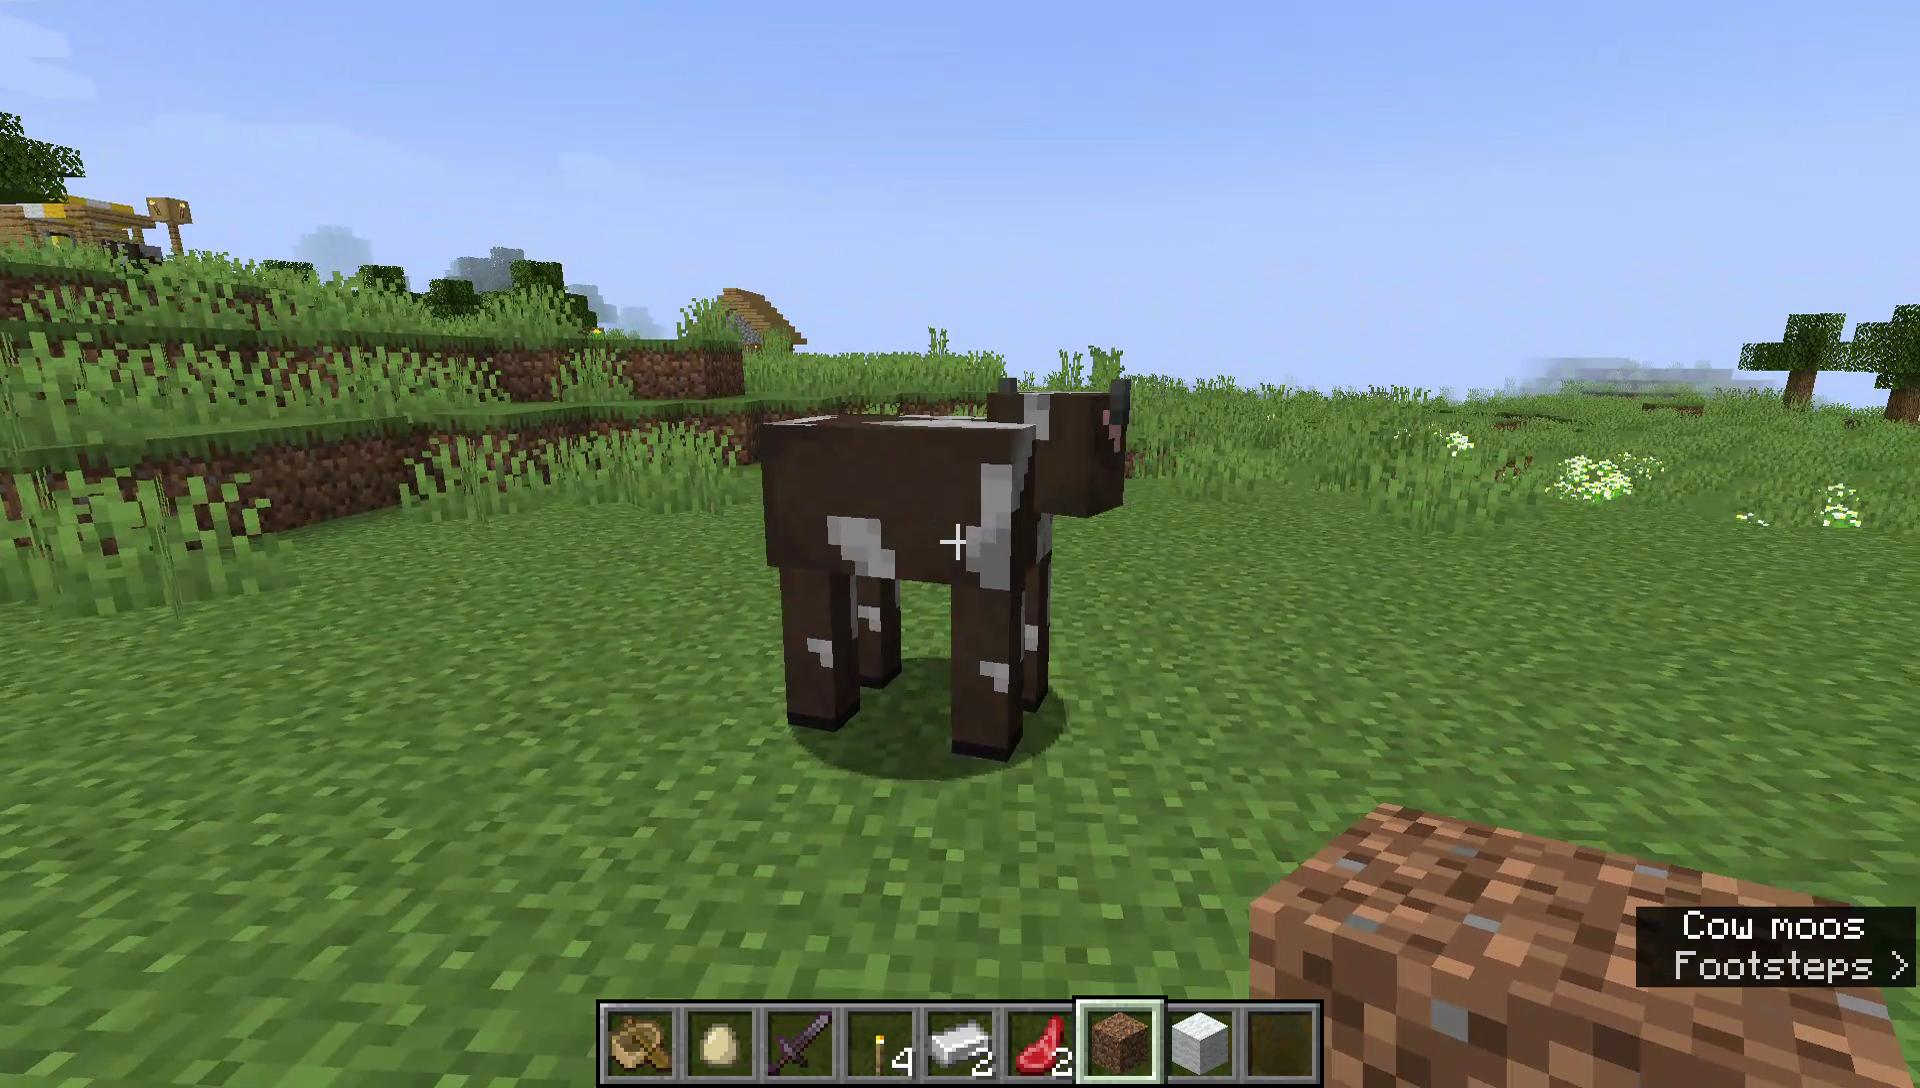cow: (735, 371, 1142, 768), (102, 236, 167, 274)
